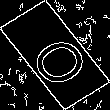O_NE: (18, 23, 92, 87)
